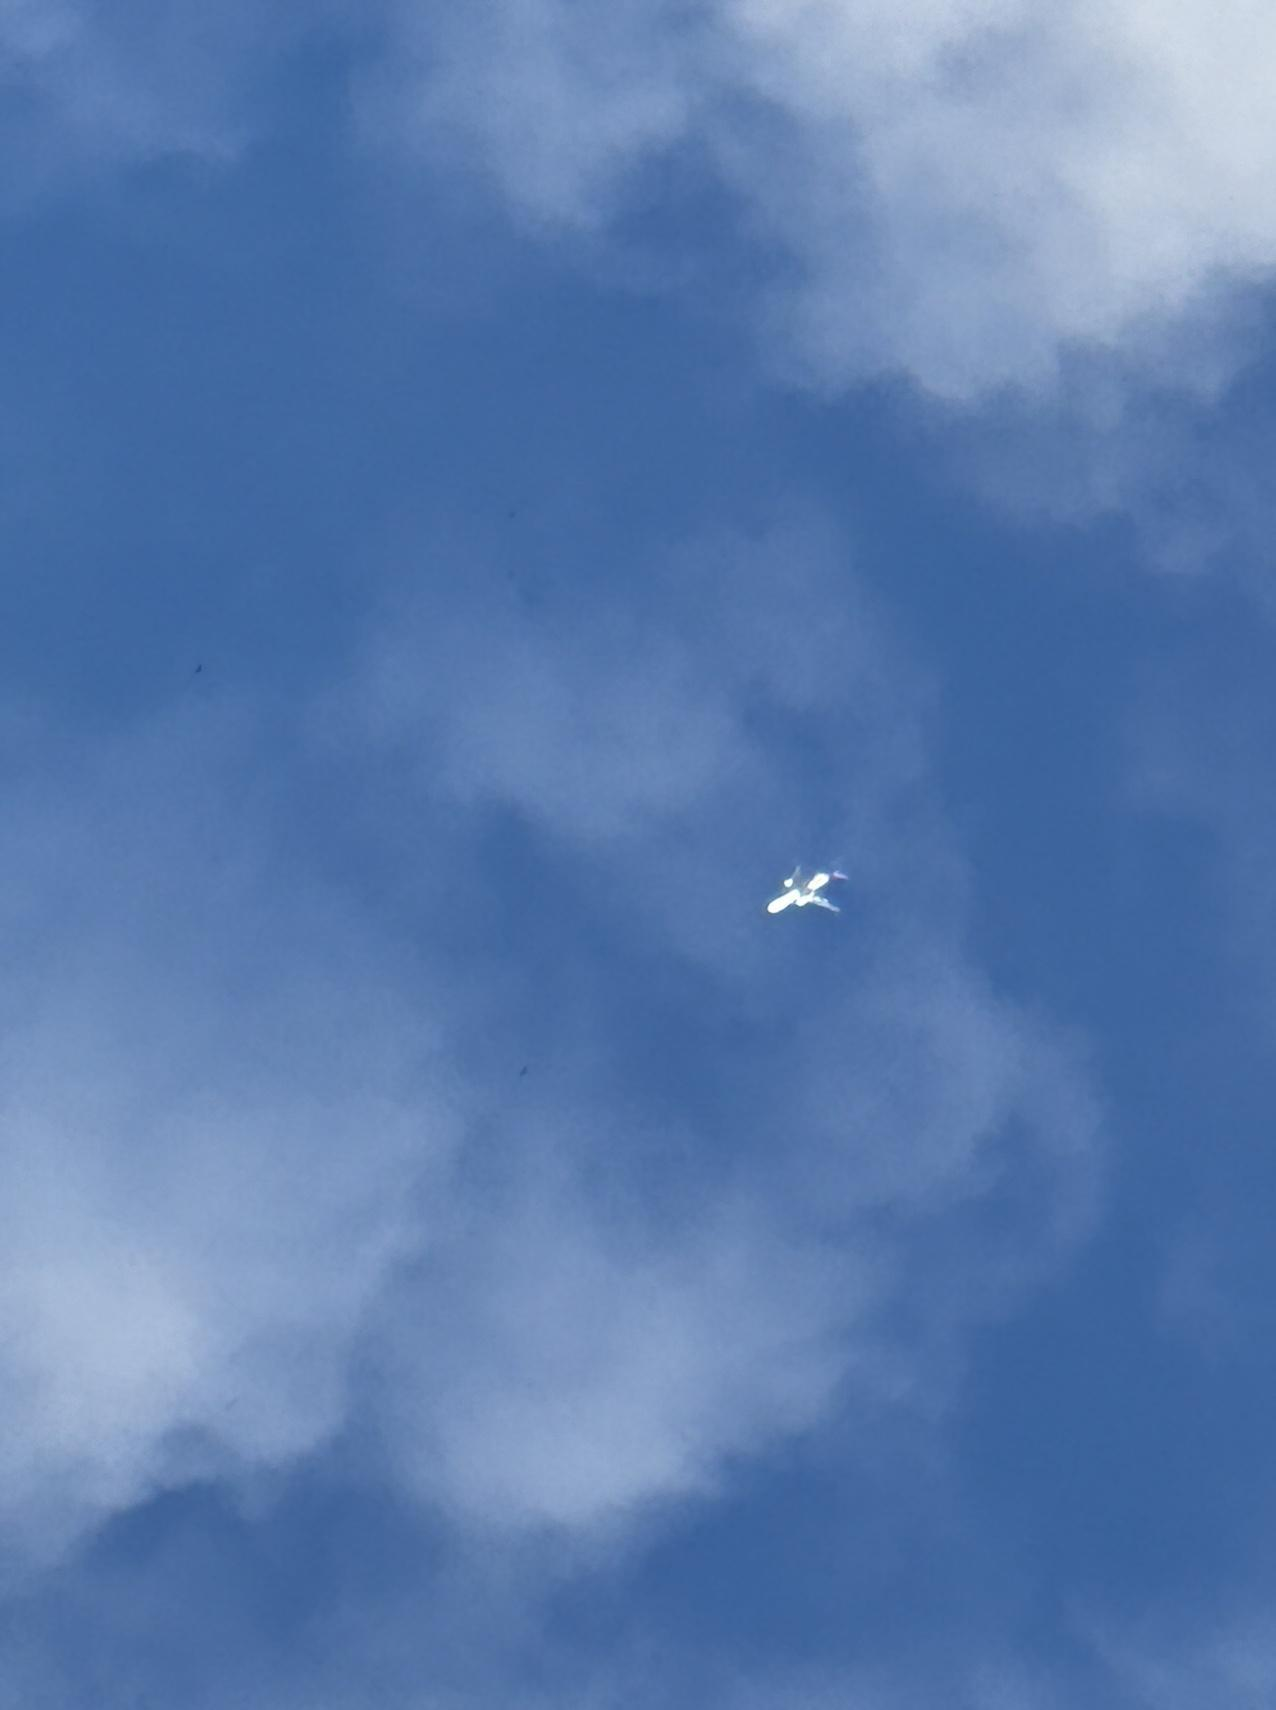Plane: (736, 828, 873, 956)
